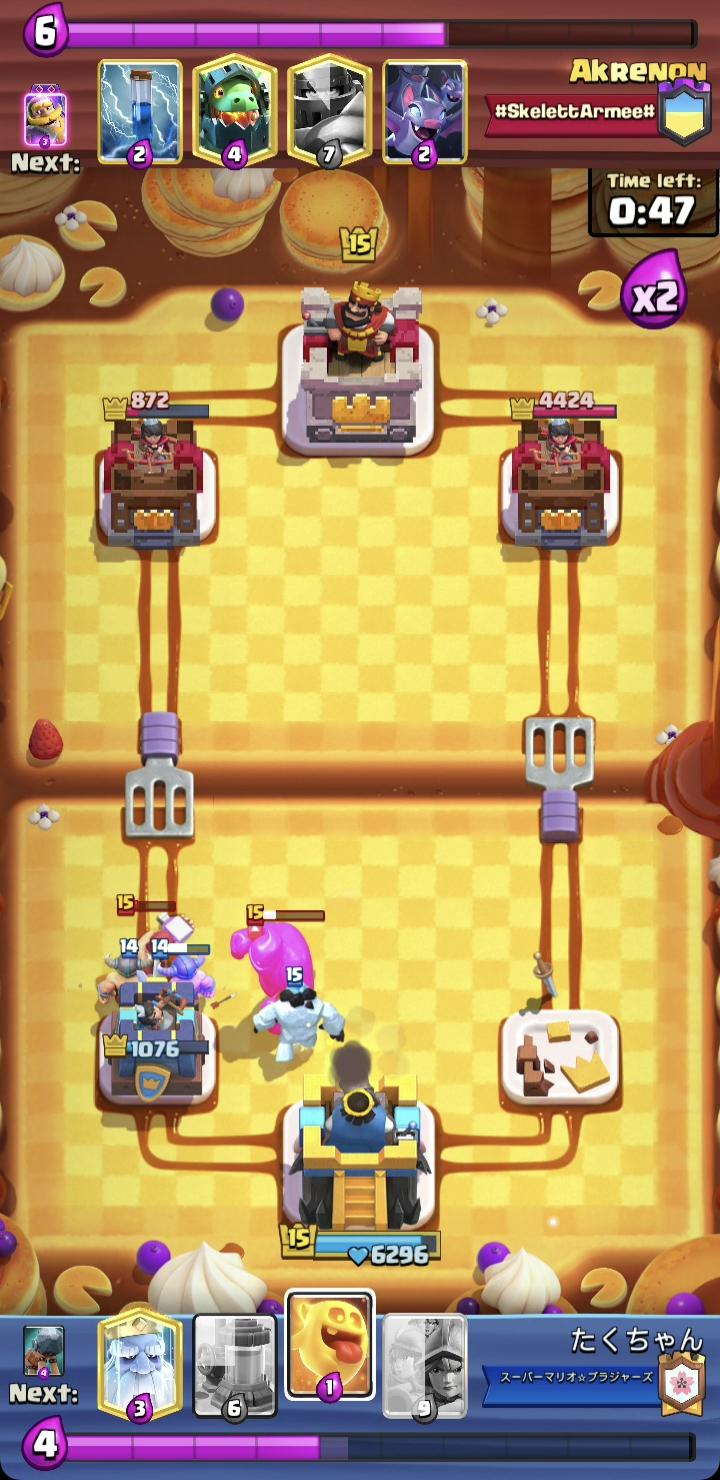ally_elite_barbarian: (151, 934, 218, 1021), (97, 936, 160, 1015)
ally_ice_golem: (251, 964, 349, 1065)
enemy_elixirgolem: (229, 902, 326, 1037)
enemy_lumberjack: (114, 892, 197, 976)
